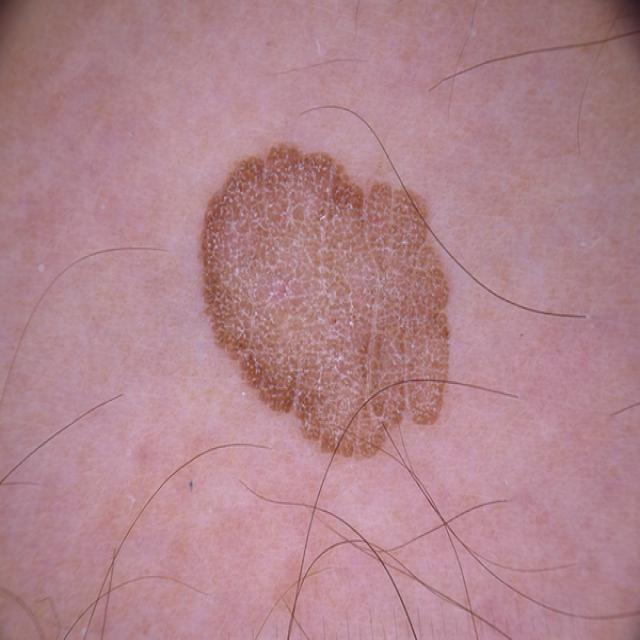Skin-Cancer Pigmented benign keratosis: (62, 17, 578, 541)
